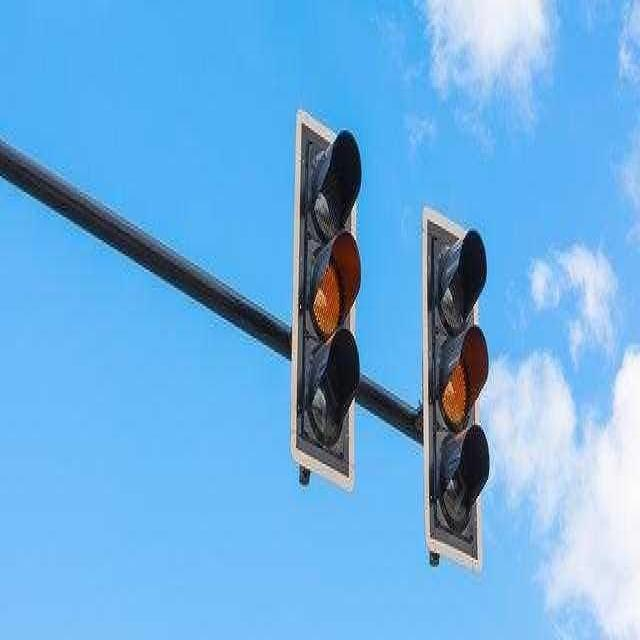red_light: (298, 117, 366, 484), (426, 198, 489, 570)
